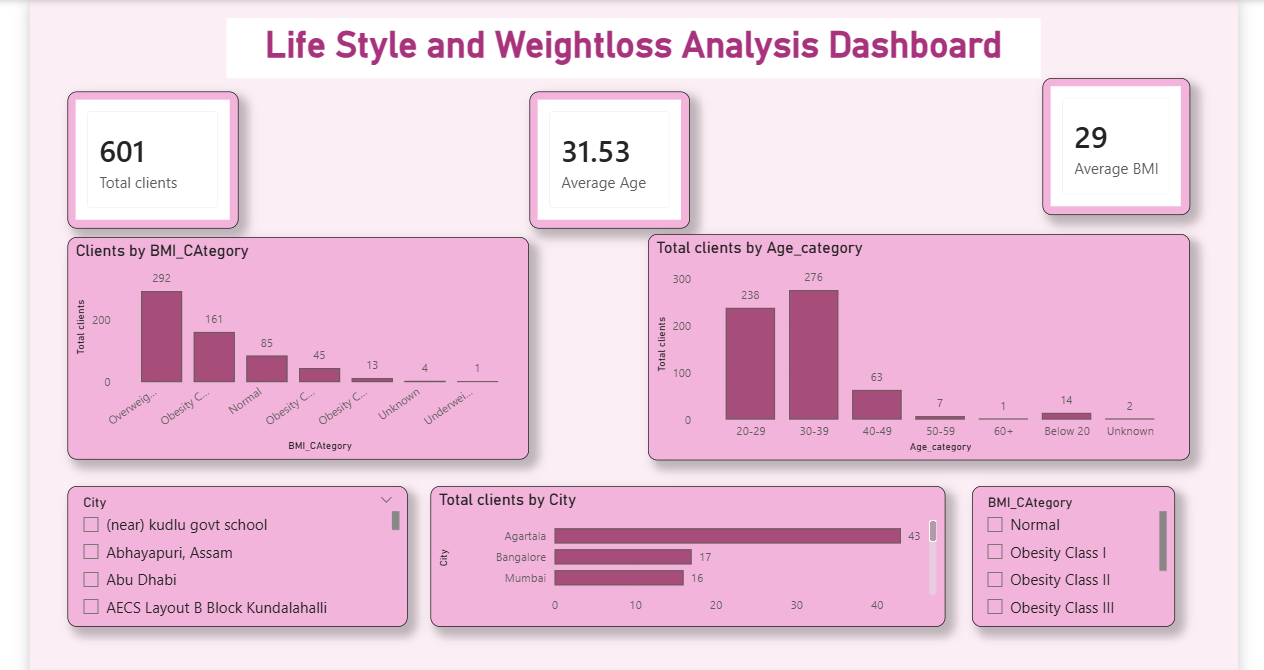

The dashboard page shown, as its layout file describes it:
{"tool":"powerbi","page":{"name":"Client Overview","canvas":[1280,720],"ordinal":0},"visuals":[{"type":"textbox","box":[207.9,18.9,863.6,64.3],"z":0},{"type":"cardVisual","fields":{"Data":["Sheet 1 - weightloss list xlsx.Total clients"]},"box":[39.7,96.4,181.4,145.5],"z":1000},{"type":"cardVisual","fields":{"Data":["Sheet 1 - weightloss list xlsx.Average Age"]},"box":[529.1,96.4,170.1,145.5],"z":2000},{"type":"cardVisual","fields":{"Data":["Sheet 1 - weightloss list xlsx.Average BMI"]},"box":[1073.4,83.2,156.9,145.5],"z":3000},{"type":"clusteredColumnChart","title":" Clients by BMI_CAtegory","fields":{"Category":["Sheet 1 - weightloss list xlsx.BMI_CAtegory"],"Y":["Sheet 1 - weightloss list xlsx.Total clients"]},"box":[39.7,251.3,489.5,236.2],"z":4000},{"type":"clusteredColumnChart","fields":{"Category":["Sheet 1 - weightloss list xlsx.Age_category"],"Y":["Sheet 1 - weightloss list xlsx.Total clients"]},"box":[655.8,247.6,574.5,240],"z":5000},{"type":"slicer","fields":{"Values":["Sheet 1 - weightloss list xlsx.City"]},"box":[39.7,515.9,360.9,149.3],"z":6000},{"type":"slicer","fields":{"Values":["Sheet 1 - weightloss list xlsx.BMI_CAtegory"]},"box":[999.7,515.9,215.4,149.3],"z":7000},{"type":"clusteredBarChart","fields":{"Category":["Sheet 1 - weightloss list xlsx.City"],"Y":["Sheet 1 - weightloss list xlsx.Total clients"]},"box":[425.2,515.9,546.1,149.3],"z":8000}]}

Visuals, with their boxes in screenshot pixels (x1, y1, x2, y2):
textbox: [221, 11, 1045, 73]
cardVisual - Sheet 1 - weightloss list xlsx.Total clients: [61, 85, 234, 224]
cardVisual - Sheet 1 - weightloss list xlsx.Average Age: [528, 85, 690, 224]
cardVisual - Sheet 1 - weightloss list xlsx.Average BMI: [1047, 73, 1196, 211]
" Clients by BMI_CAtegory" clusteredColumnChart: [61, 233, 528, 458]
clusteredColumnChart - Sheet 1 - weightloss list xlsx.Age_category x Sheet 1 - weightloss list xlsx.Total clients: [648, 230, 1196, 458]
slicer - Sheet 1 - weightloss list xlsx.City: [61, 485, 405, 628]
slicer - Sheet 1 - weightloss list xlsx.BMI_CAtegory: [976, 485, 1182, 628]
clusteredBarChart - Sheet 1 - weightloss list xlsx.City x Sheet 1 - weightloss list xlsx.Total clients: [428, 485, 949, 628]
